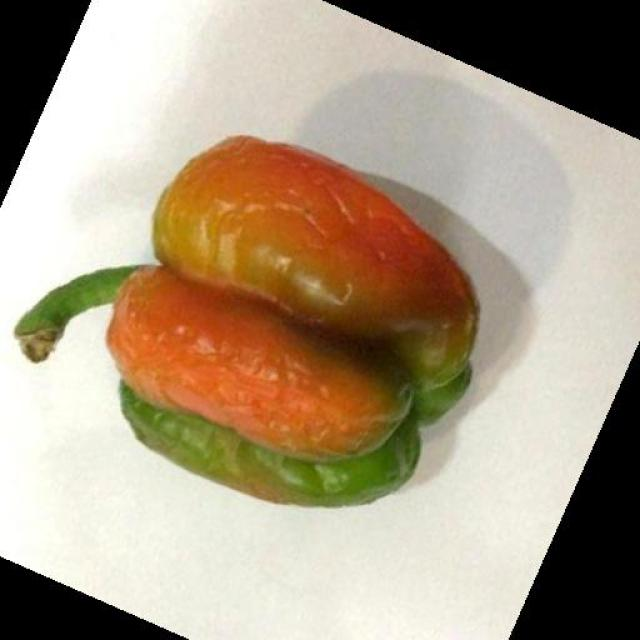Stale_Capsicum: (73, 134, 457, 510)
